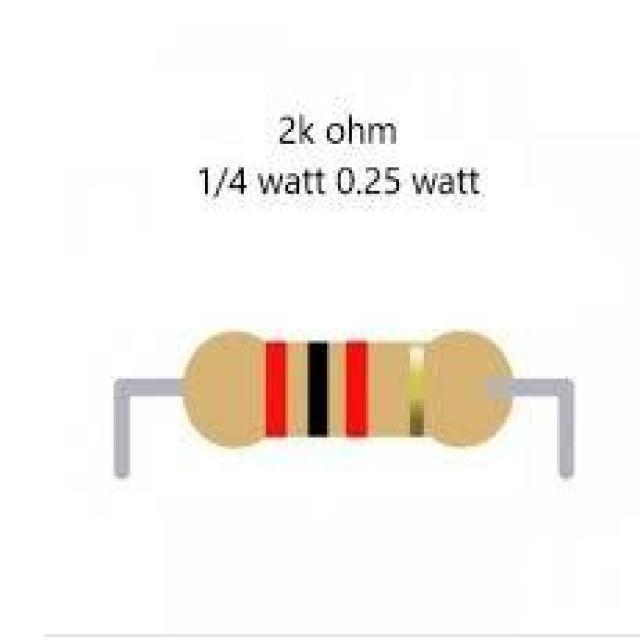Capacitor Electrolitico: (163, 317, 538, 455)
